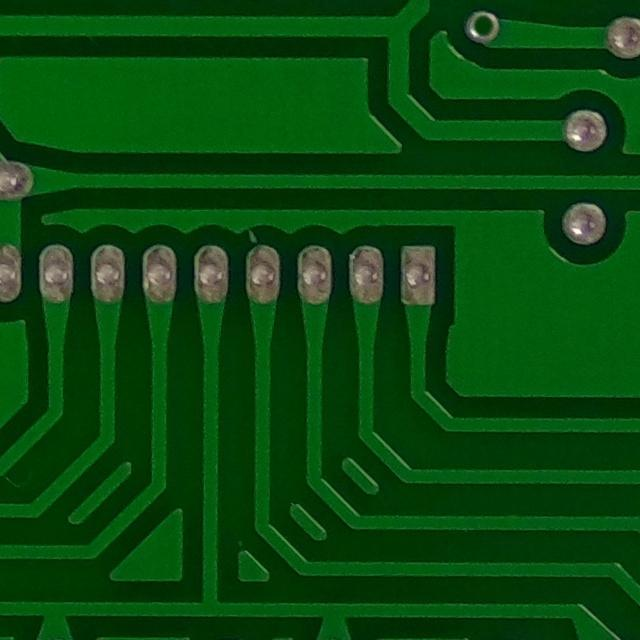missing_hole: (458, 6, 509, 50)
